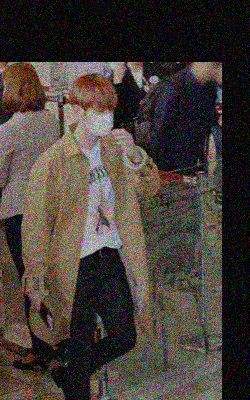with_mask: (86, 108, 115, 136)
